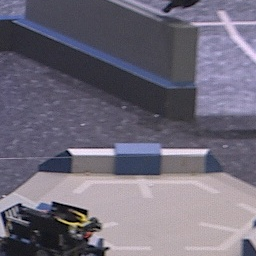Robot: (1, 200, 106, 256)
